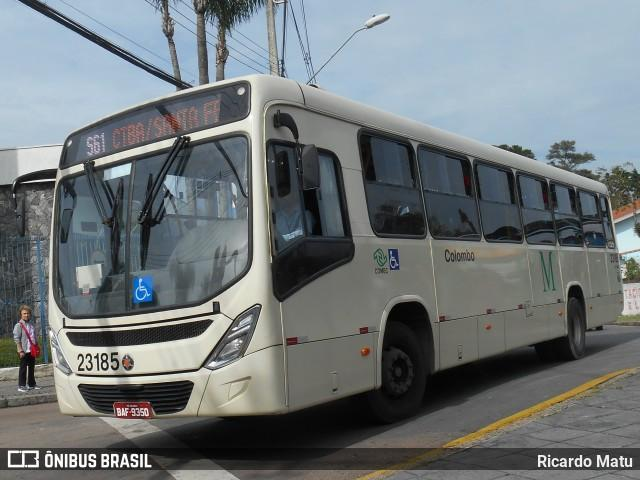CTBA SANTA FE: (107, 93, 225, 155)
